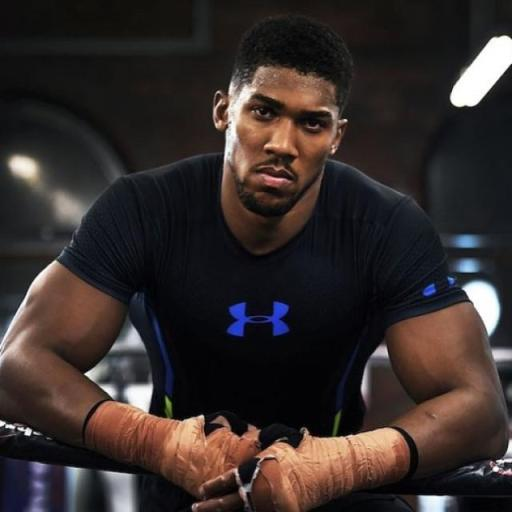Under Armour: (222, 296, 294, 340)
